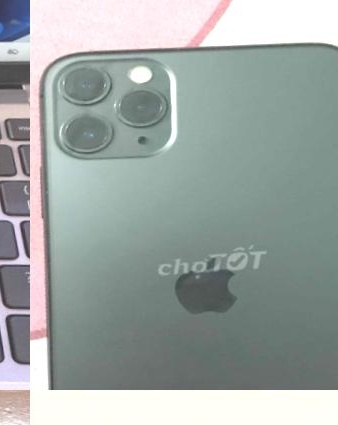scratch: (44, 53, 169, 157)
